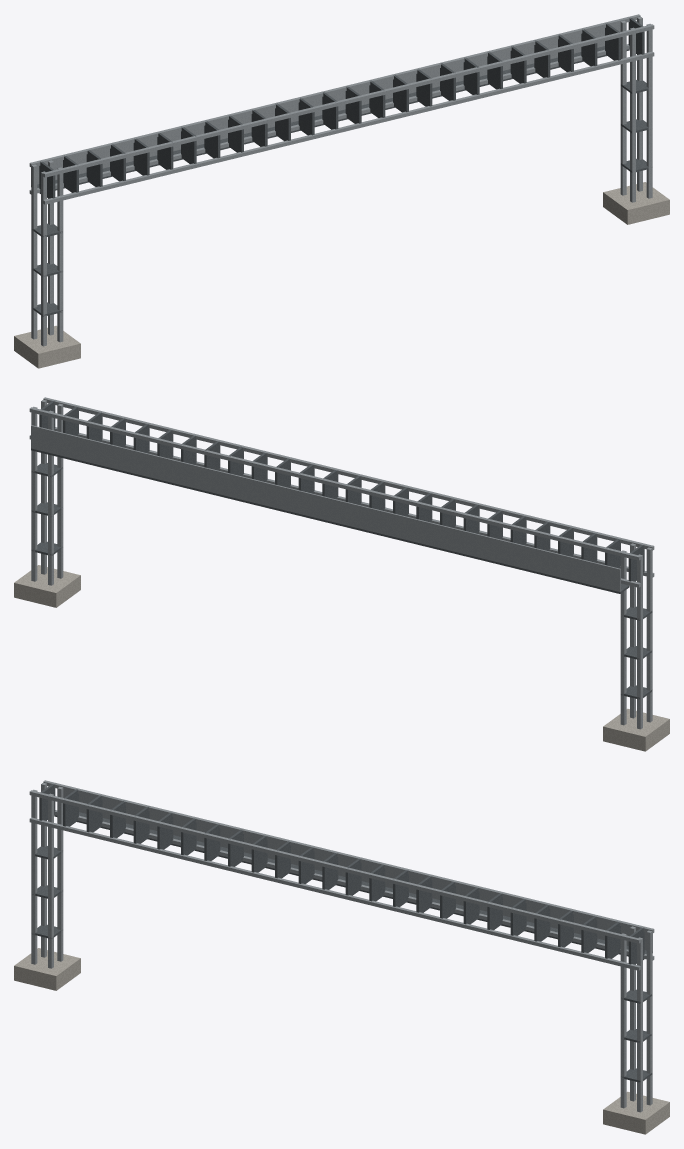
File: highway_gantry.glb
3 views of the same model, one above another, from view 1: azimuth 30°, elevation 25°; view 2: azimuth 150°, elevation 25°; view 3: azimuth 330°, elevation 25° (orthographic).
Visible parts, largest first — view 1: highway_gantry; view 2: highway_gantry; view 3: highway_gantry.
Part boxes in pixels (x1,y1,x2,y2): highway_gantry: (14, 14, 669, 368); highway_gantry: (14, 397, 669, 751); highway_gantry: (14, 780, 669, 1134).
Size of the model in its own units: 26.8 by 7.64 by 2.1.
Materials: 3 (3 with a texture image).
